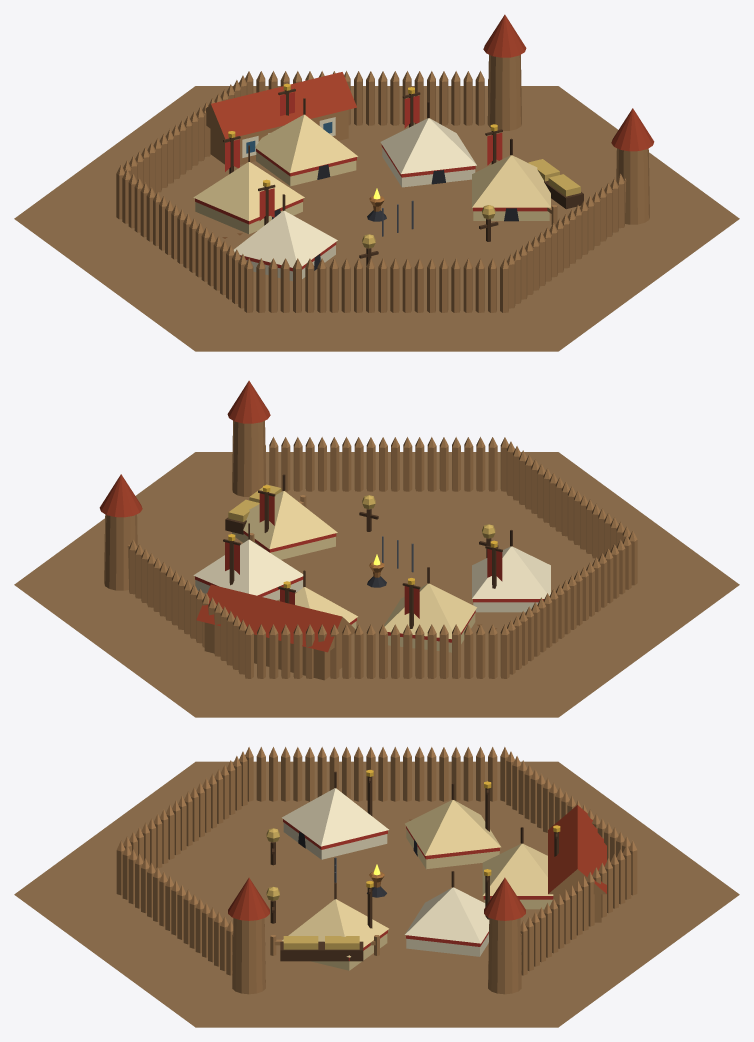
The model's file is district_encampment_2.fbx.
3 views of the same model, one above another, from view 1: azimuth 30°, elevation 25°; view 2: azimuth 150°, elevation 25°; view 3: azimuth 270°, elevation 25° (orthographic).
Visible parts, largest first — view 1: district_encampment_2; view 2: district_encampment_2; view 3: district_encampment_2.
Part boxes in pixels (x1,y1,x2,y2): district_encampment_2: [14, 14, 739, 351]; district_encampment_2: [14, 380, 739, 717]; district_encampment_2: [14, 747, 739, 1027].
Bounding box in the file's own units: 182 × 35.4 × 210.
